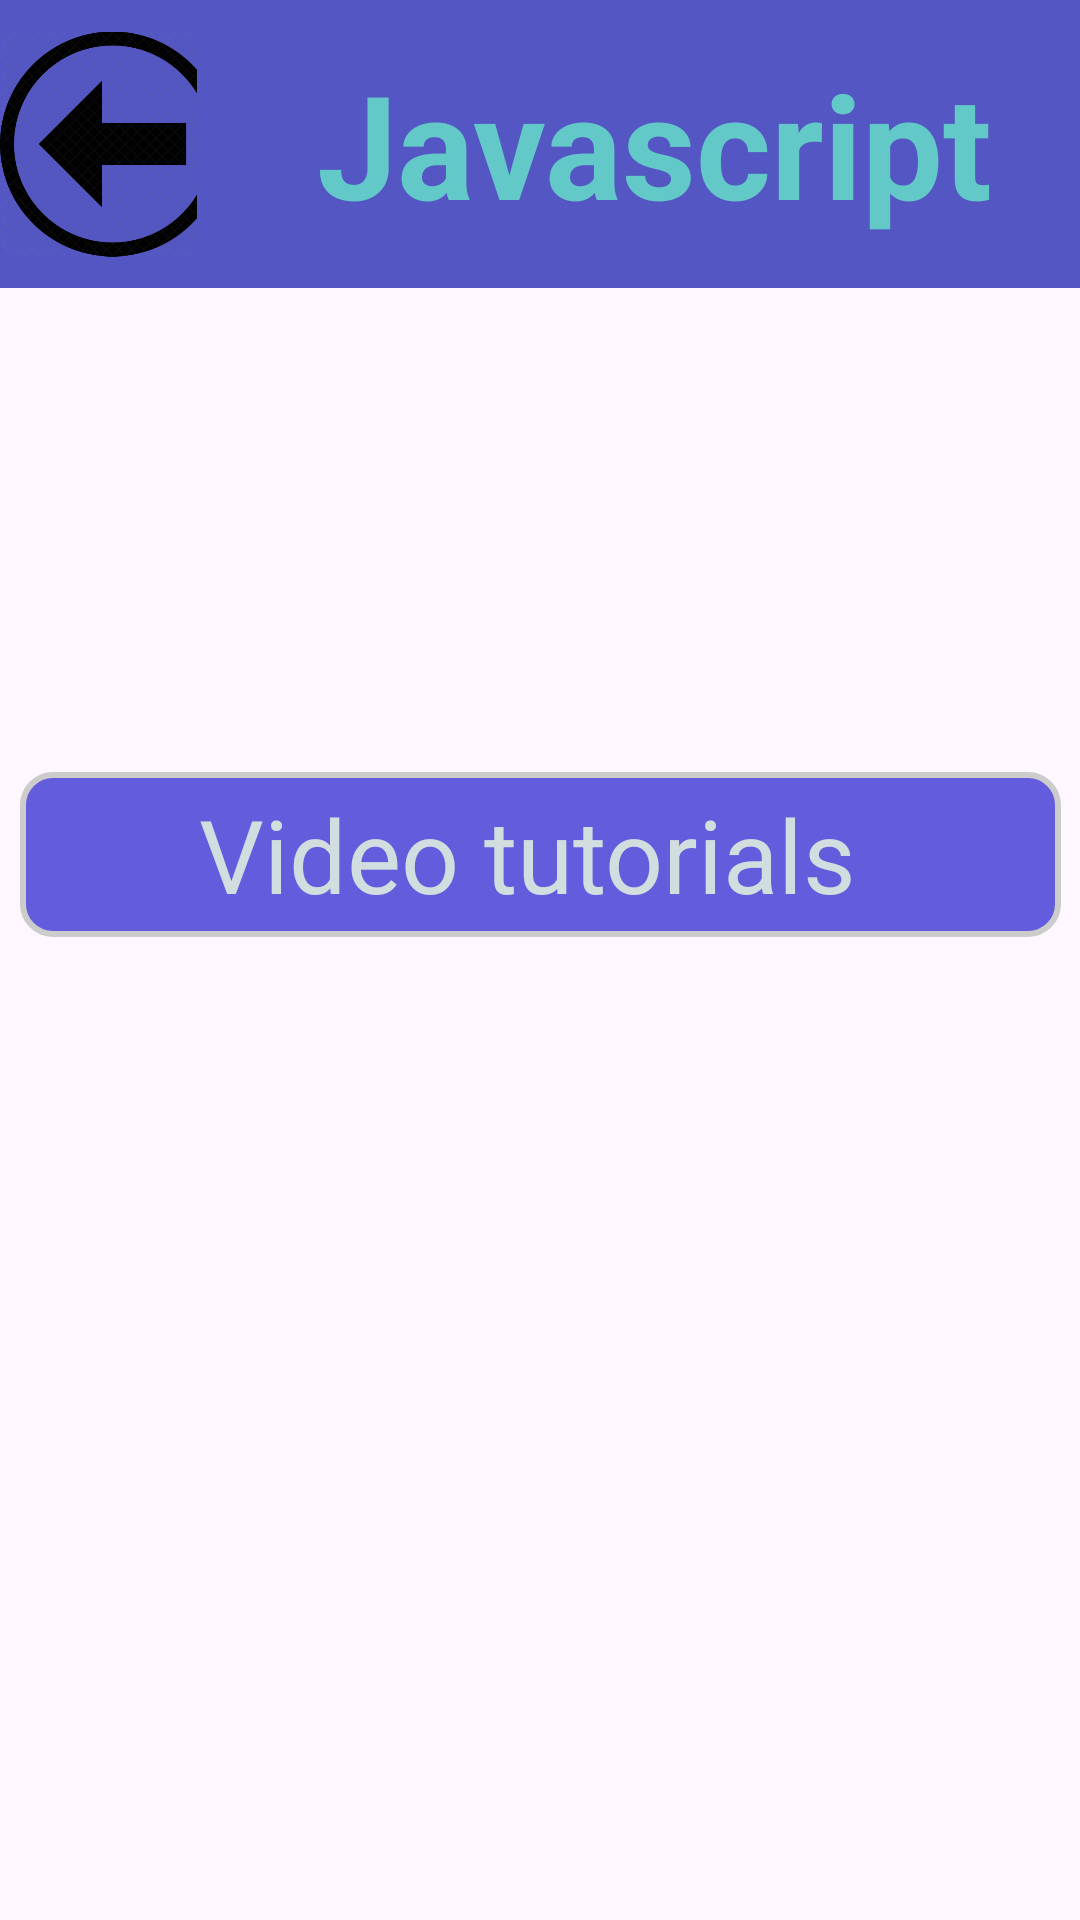

Screen size 1080x1920. Icon name, then its box in pixels as [x1, y1, x2, y2]:
back: [0, 32, 197, 257]
